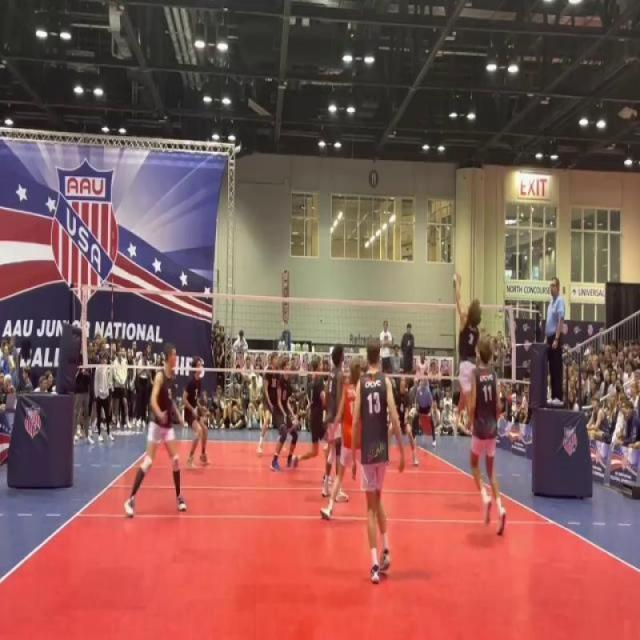volleyball: (452, 270, 462, 292)
